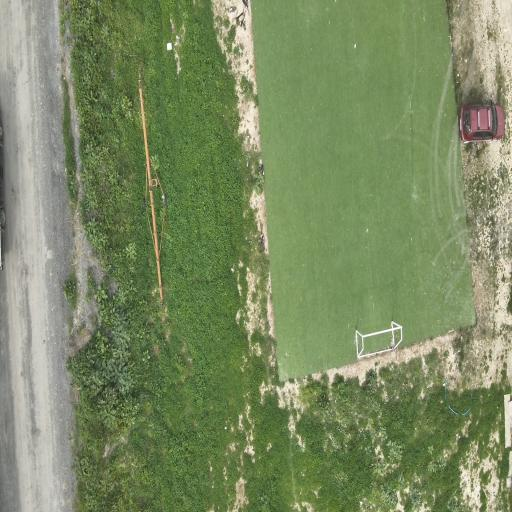car: (460, 105, 505, 142), (0, 115, 5, 269)
